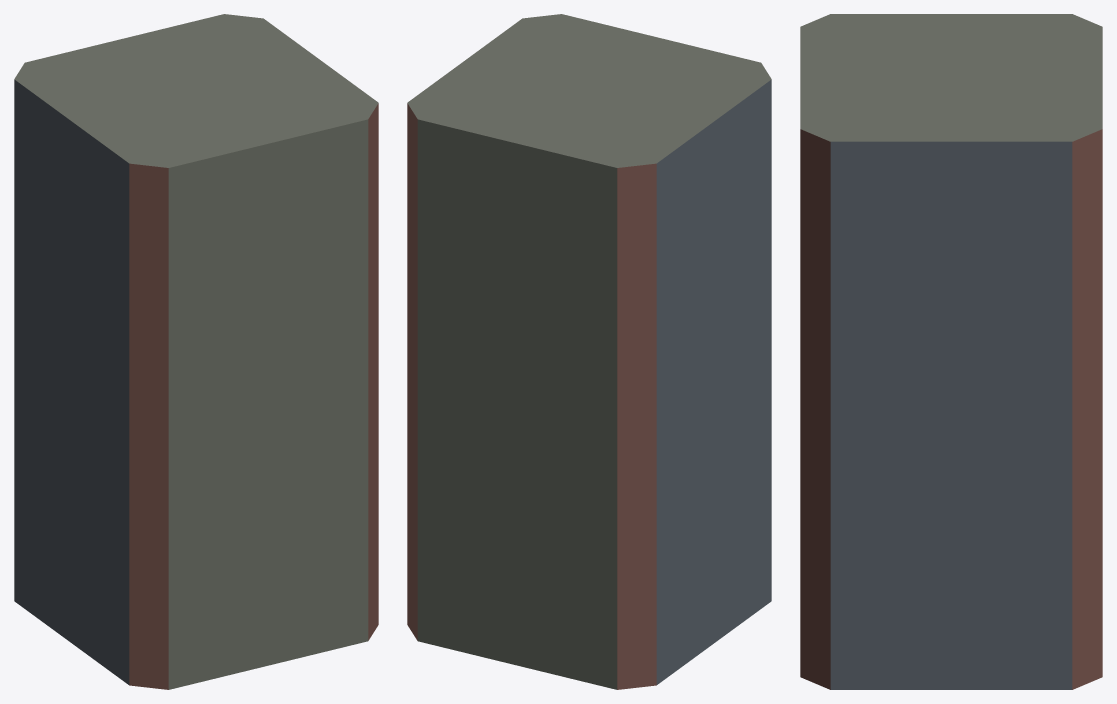
Rendered from pillar_wide_2m.fbx.
The picture shows the model from 3 angles, left to right: view 1: azimuth 30°, elevation 25°; view 2: azimuth 150°, elevation 25°; view 3: azimuth 270°, elevation 25°; orthographic projection. The views are drawn at different scales.
Visible parts, largest first — view 1: Cube; view 2: Cube; view 3: Cube.
Part boxes in pixels (x1,y1,x2,y2): Cube: (14, 14, 378, 689); Cube: (407, 14, 771, 689); Cube: (800, 14, 1102, 689).
Size of the model in its own units: 100 by 200 by 100.
